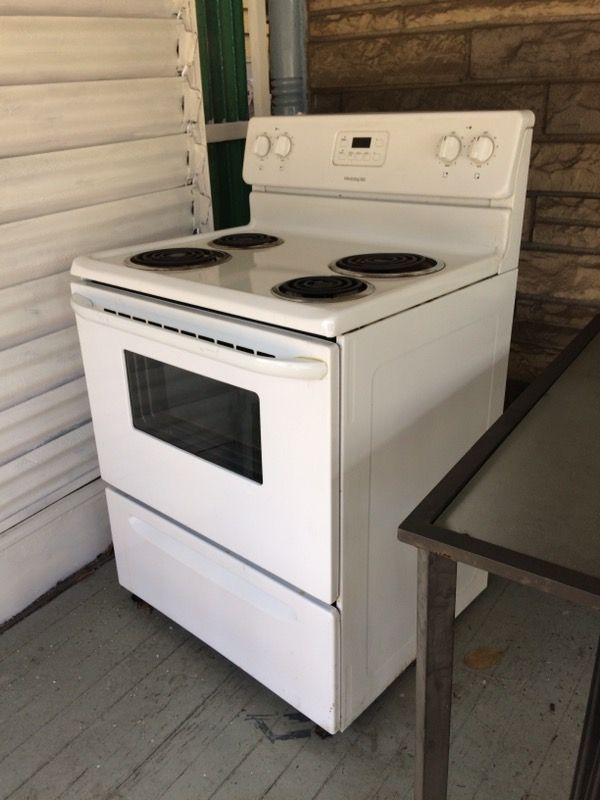stove: (92, 113, 544, 687)
